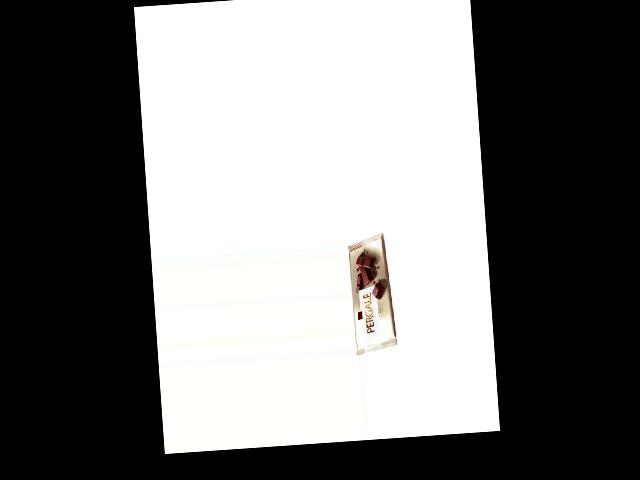chocolate: (347, 230, 396, 357)
